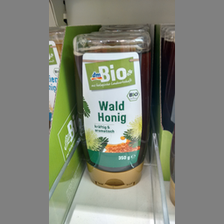honey: (65, 30, 156, 189)
